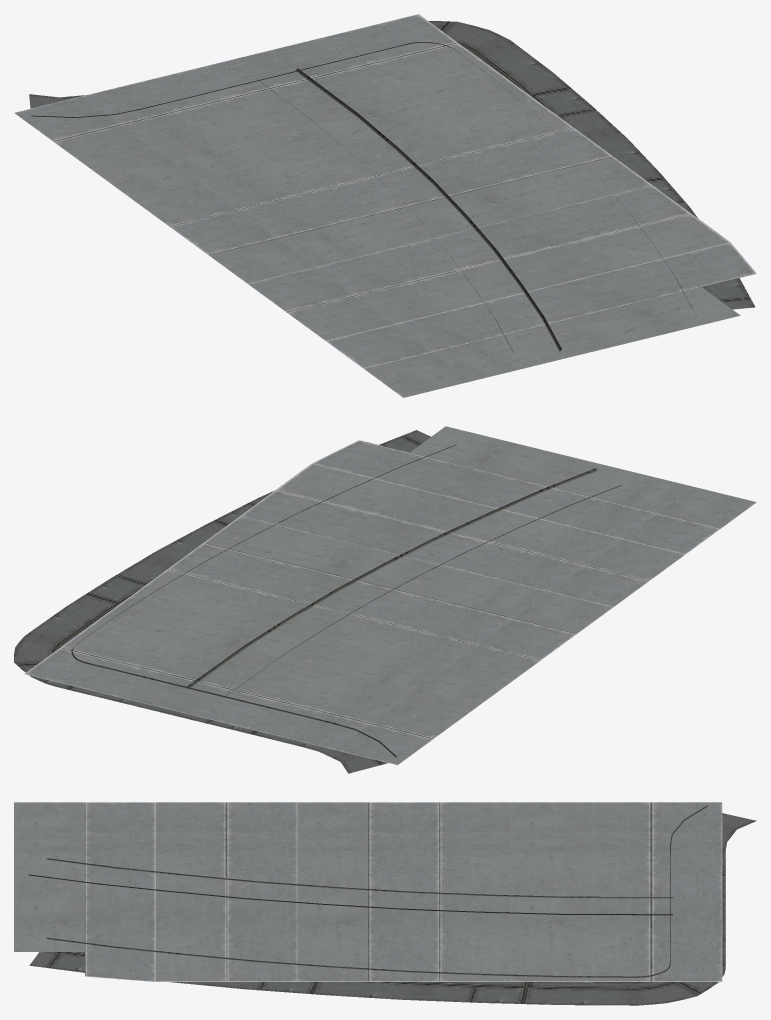
File: Club_RingBorderBend3xRoof_01.FBX
3 views of the same model, one above another, from view 1: azimuth 30°, elevation 25°; view 2: azimuth 150°, elevation 25°; view 3: azimuth 270°, elevation 25° (orthographic). The views are drawn at different scales.
Visible parts, largest first — view 1: Club_RingBorderBend3xRoof_01; view 2: Club_RingBorderBend3xRoof_01; view 3: Club_RingBorderBend3xRoof_01.
Boxes of the visible parts, left/top/right/bottom form: Club_RingBorderBend3xRoof_01: left=14, top=14, right=756, bottom=397; Club_RingBorderBend3xRoof_01: left=14, top=426, right=756, bottom=773; Club_RingBorderBend3xRoof_01: left=14, top=802, right=756, bottom=1005.
Size of the model in its own units: 11.35 by 0.1371 by 17.83.
